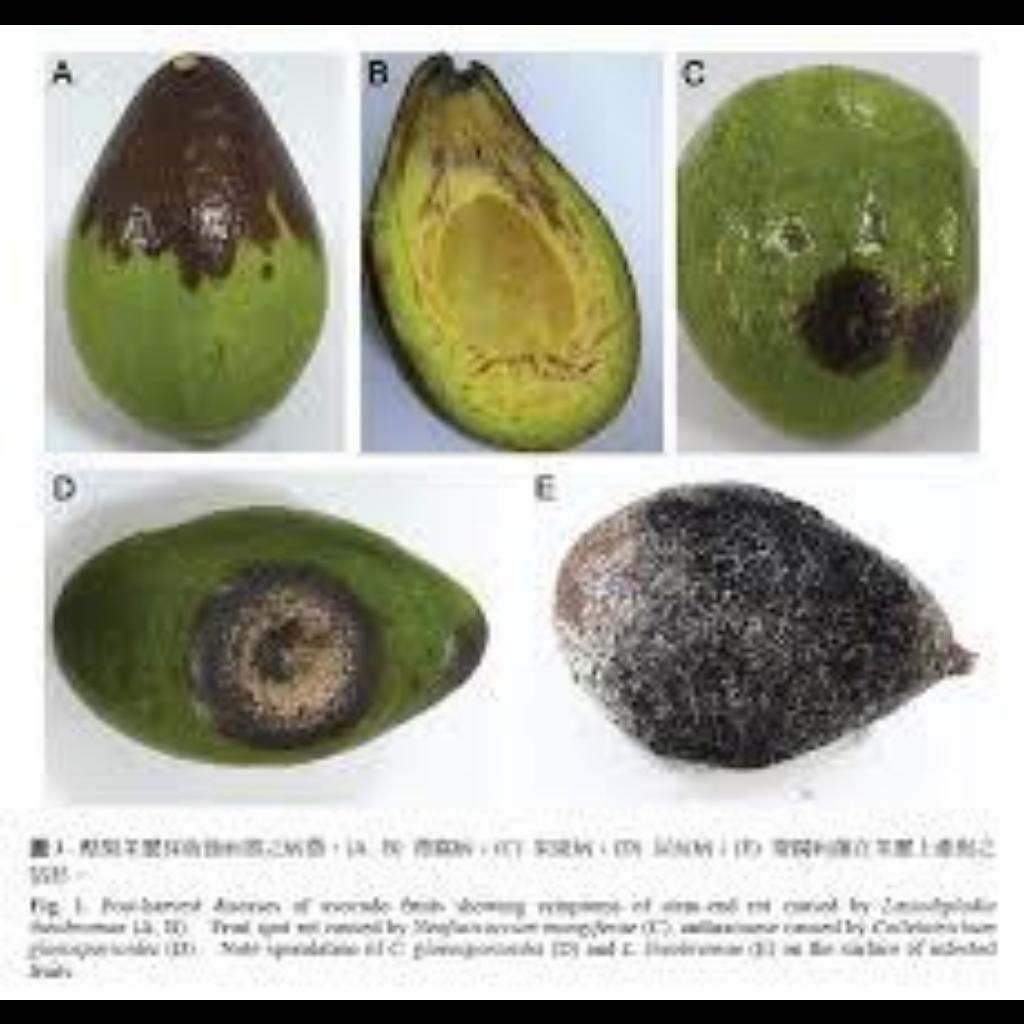Anthracnose: (44, 58, 338, 422), (96, 523, 438, 759), (759, 182, 977, 400), (380, 60, 572, 238)
